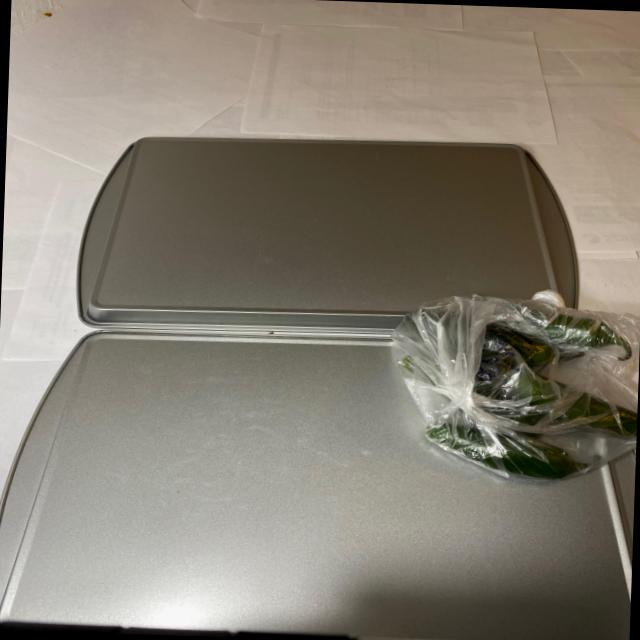chilli: (388, 301, 634, 477)
